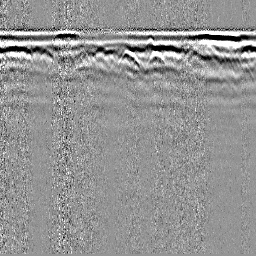cavity: (117, 47, 140, 68)
